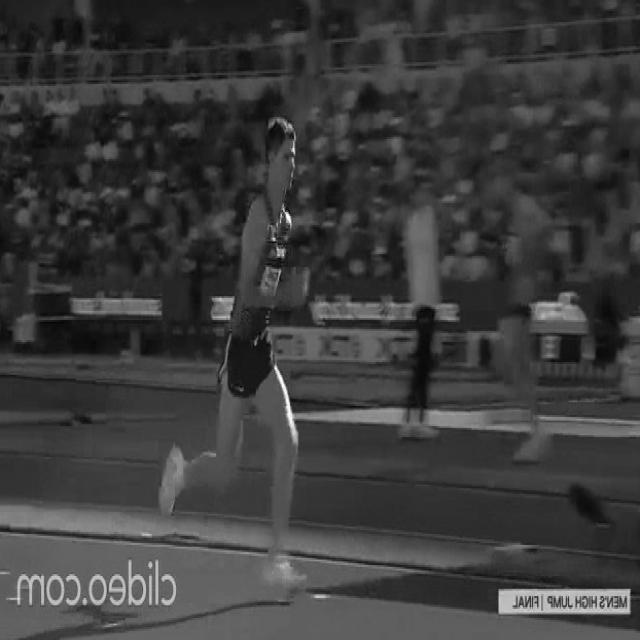run: (164, 124, 305, 592)
